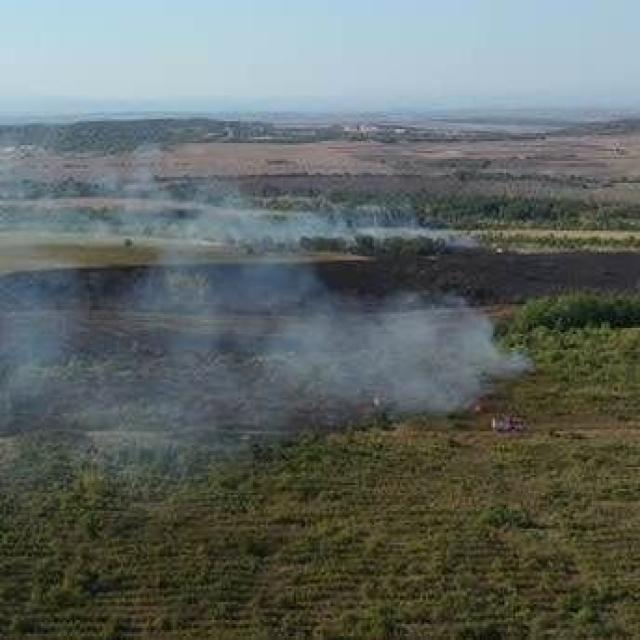Smoke: (0, 157, 527, 435)
